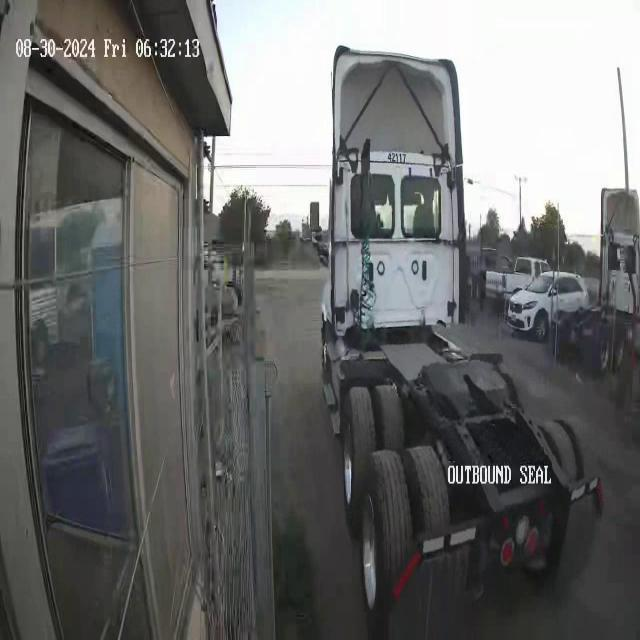TRUCK_OUT: (314, 44, 604, 616)
